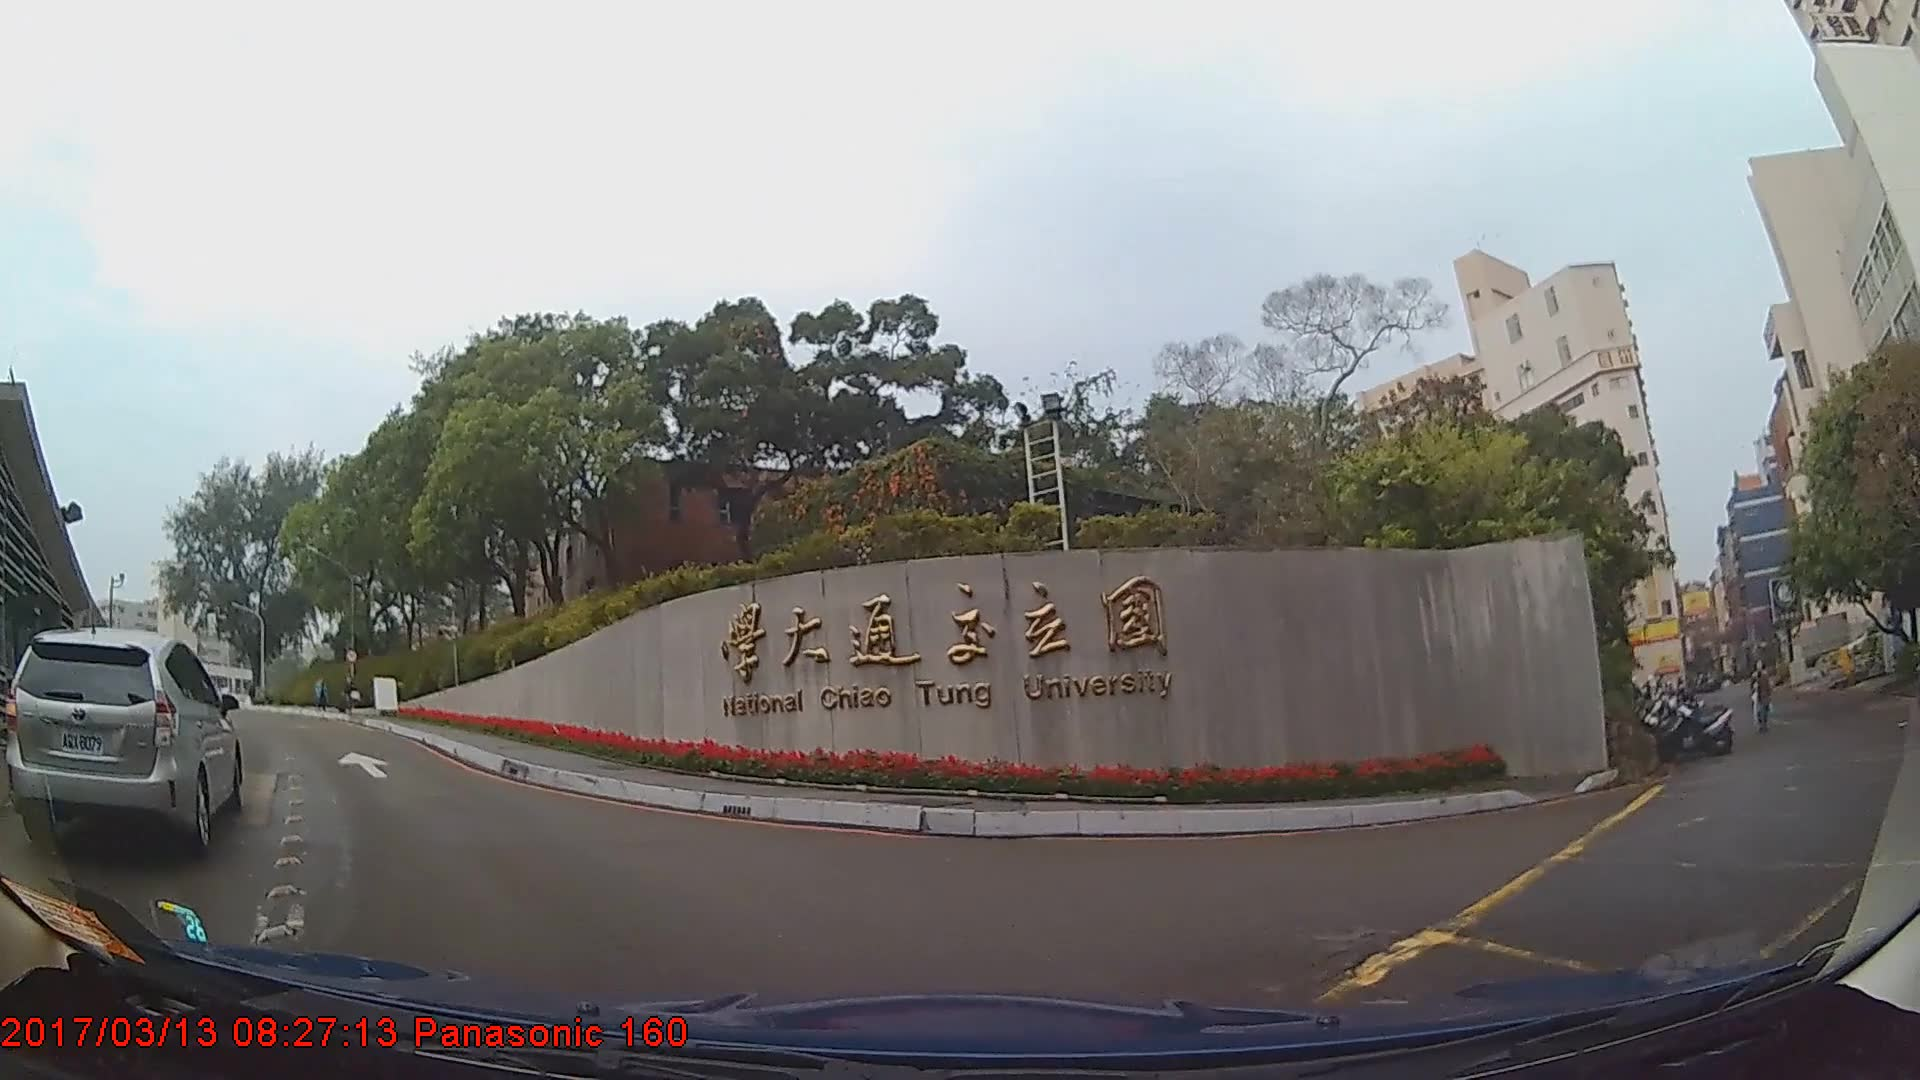pedestrian: (1750, 663, 1776, 736)
vehicle: (8, 626, 244, 855)
